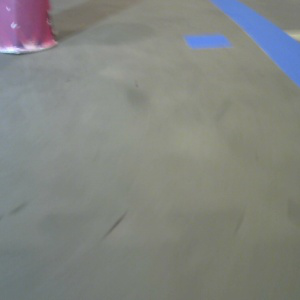middle: (1, 1, 57, 54)
